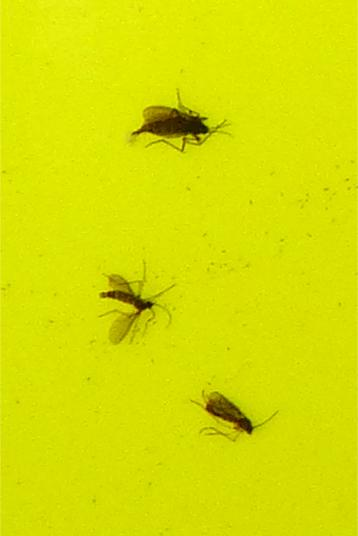Nematocera: (100, 273, 161, 344), (127, 100, 215, 144), (203, 392, 258, 436)
